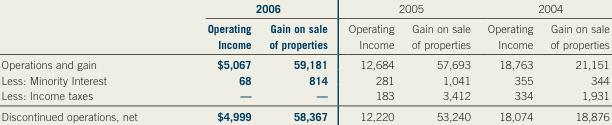table: (0, 0, 608, 122)
table column: (0, 0, 171, 122), (171, 0, 259, 122), (259, 0, 337, 122), (402, 0, 478, 122), (541, 0, 608, 122), (337, 0, 402, 122), (478, 0, 541, 122)
table column header: (0, 0, 608, 53)
table row: (0, 17, 608, 53), (0, 53, 608, 71), (0, 87, 608, 105), (0, 0, 608, 17), (0, 105, 608, 122), (0, 71, 608, 87)
table spanning cell: (171, 0, 337, 17), (337, 0, 478, 17), (478, 0, 608, 17)
